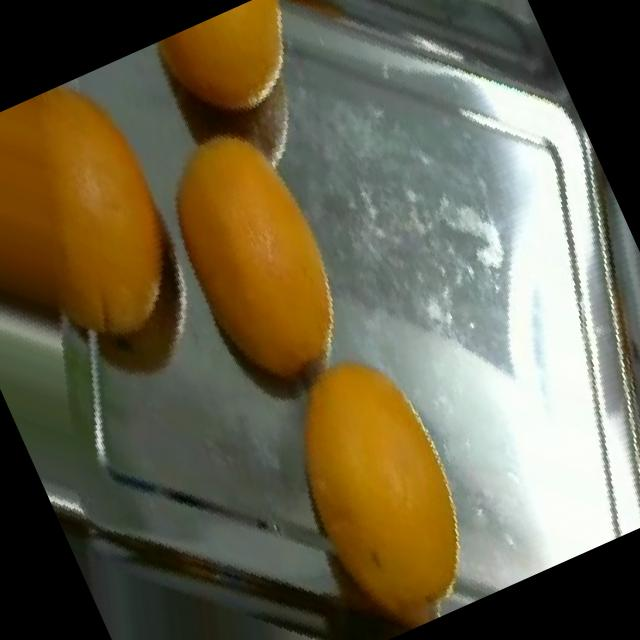Fruit: (133, 0, 352, 168)
